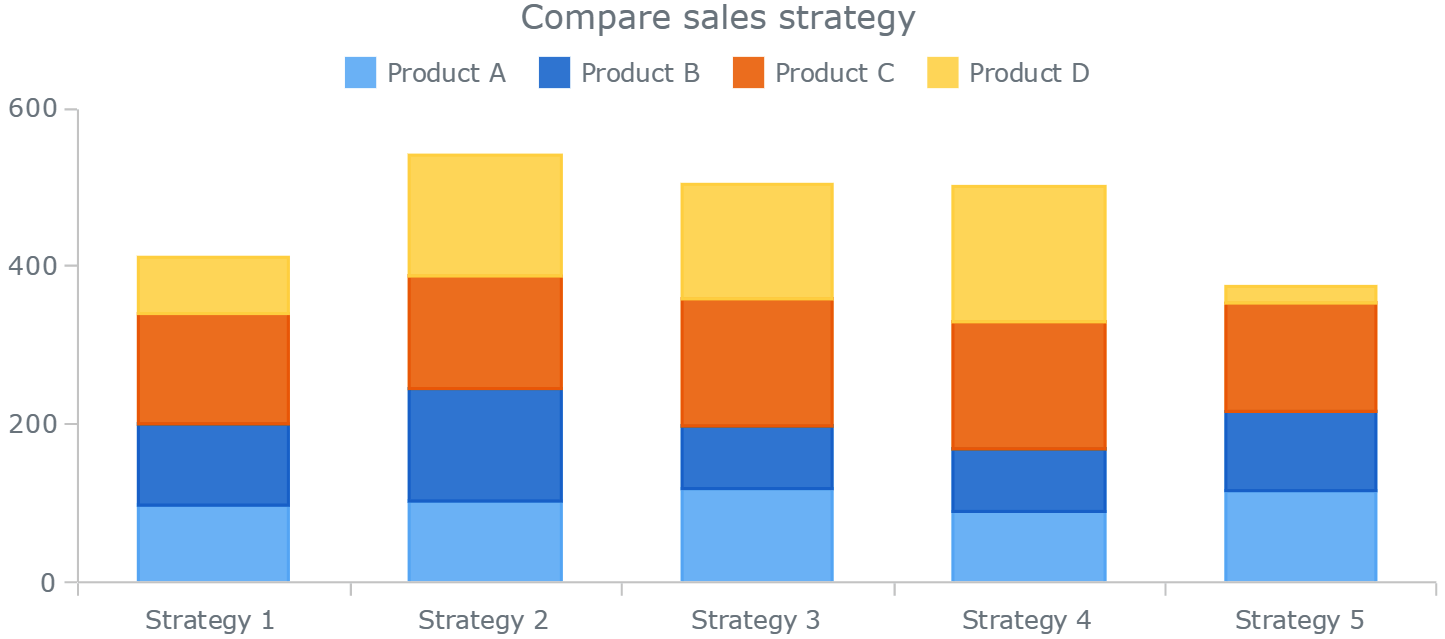canvas: (127, 145, 1392, 585)
legend: (335, 44, 1095, 98)
title: (496, 1, 931, 39)
x-axis: (58, 574, 1443, 601)
x-labels: (127, 604, 1386, 639)
y-axis: (62, 101, 97, 598)
y-labels: (4, 90, 65, 602)
